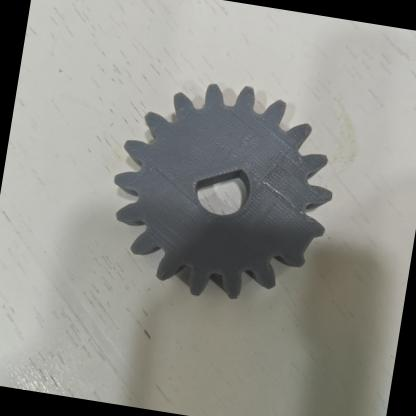defect: (181, 147, 252, 208), (286, 218, 329, 279)
gear: (99, 68, 346, 314)
